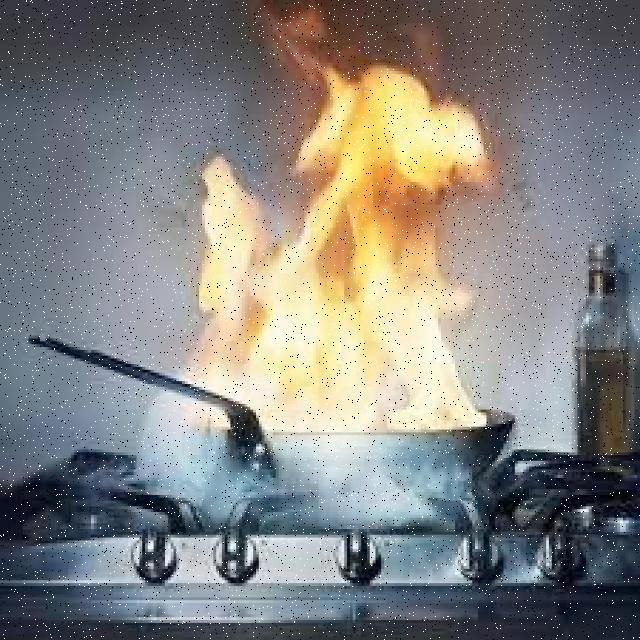fire: (192, 97, 512, 456)
